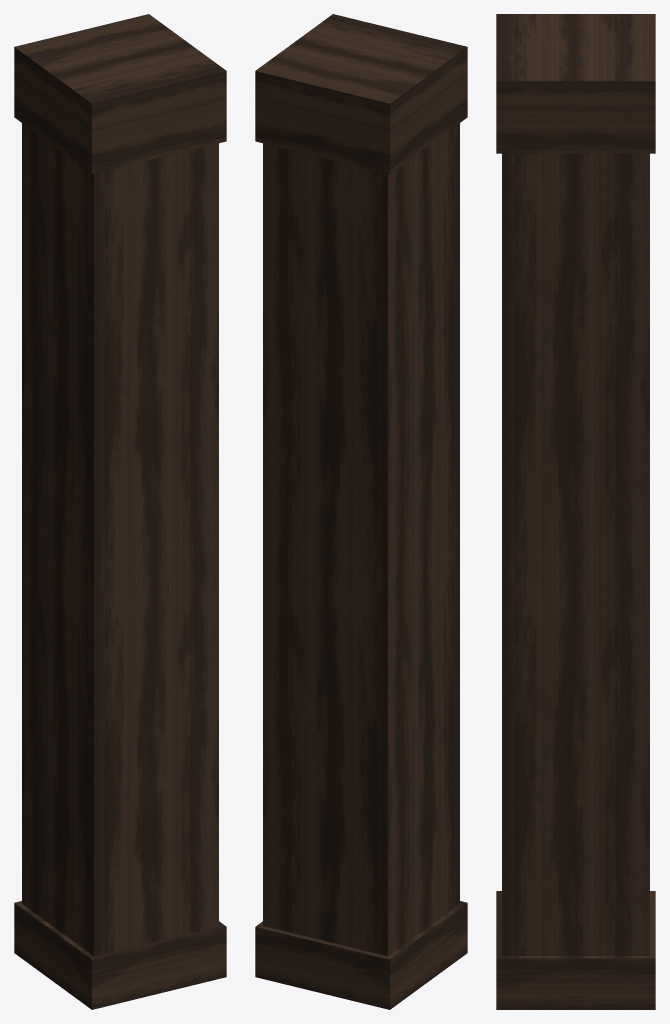
Rendered from HO_Wall_CornerPost.fbx.
3 views of the same model, side by side, from view 1: azimuth 30°, elevation 25°; view 2: azimuth 150°, elevation 25°; view 3: azimuth 270°, elevation 25° (orthographic). The views are drawn at different scales.
Visible parts, largest first — view 1: HO_Wall_CornerPost; view 2: HO_Wall_CornerPost; view 3: HO_Wall_CornerPost.
Boxes of the visible parts, <box> form: HO_Wall_CornerPost: <box>14,14,226,1009</box>; HO_Wall_CornerPost: <box>255,14,467,1009</box>; HO_Wall_CornerPost: <box>496,14,655,1009</box>.
Bounding box in the file's own units: 1.4 × 9 × 1.4.
